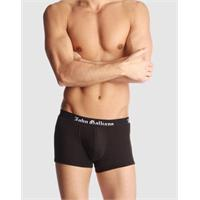mutande: (53, 108, 134, 172)
